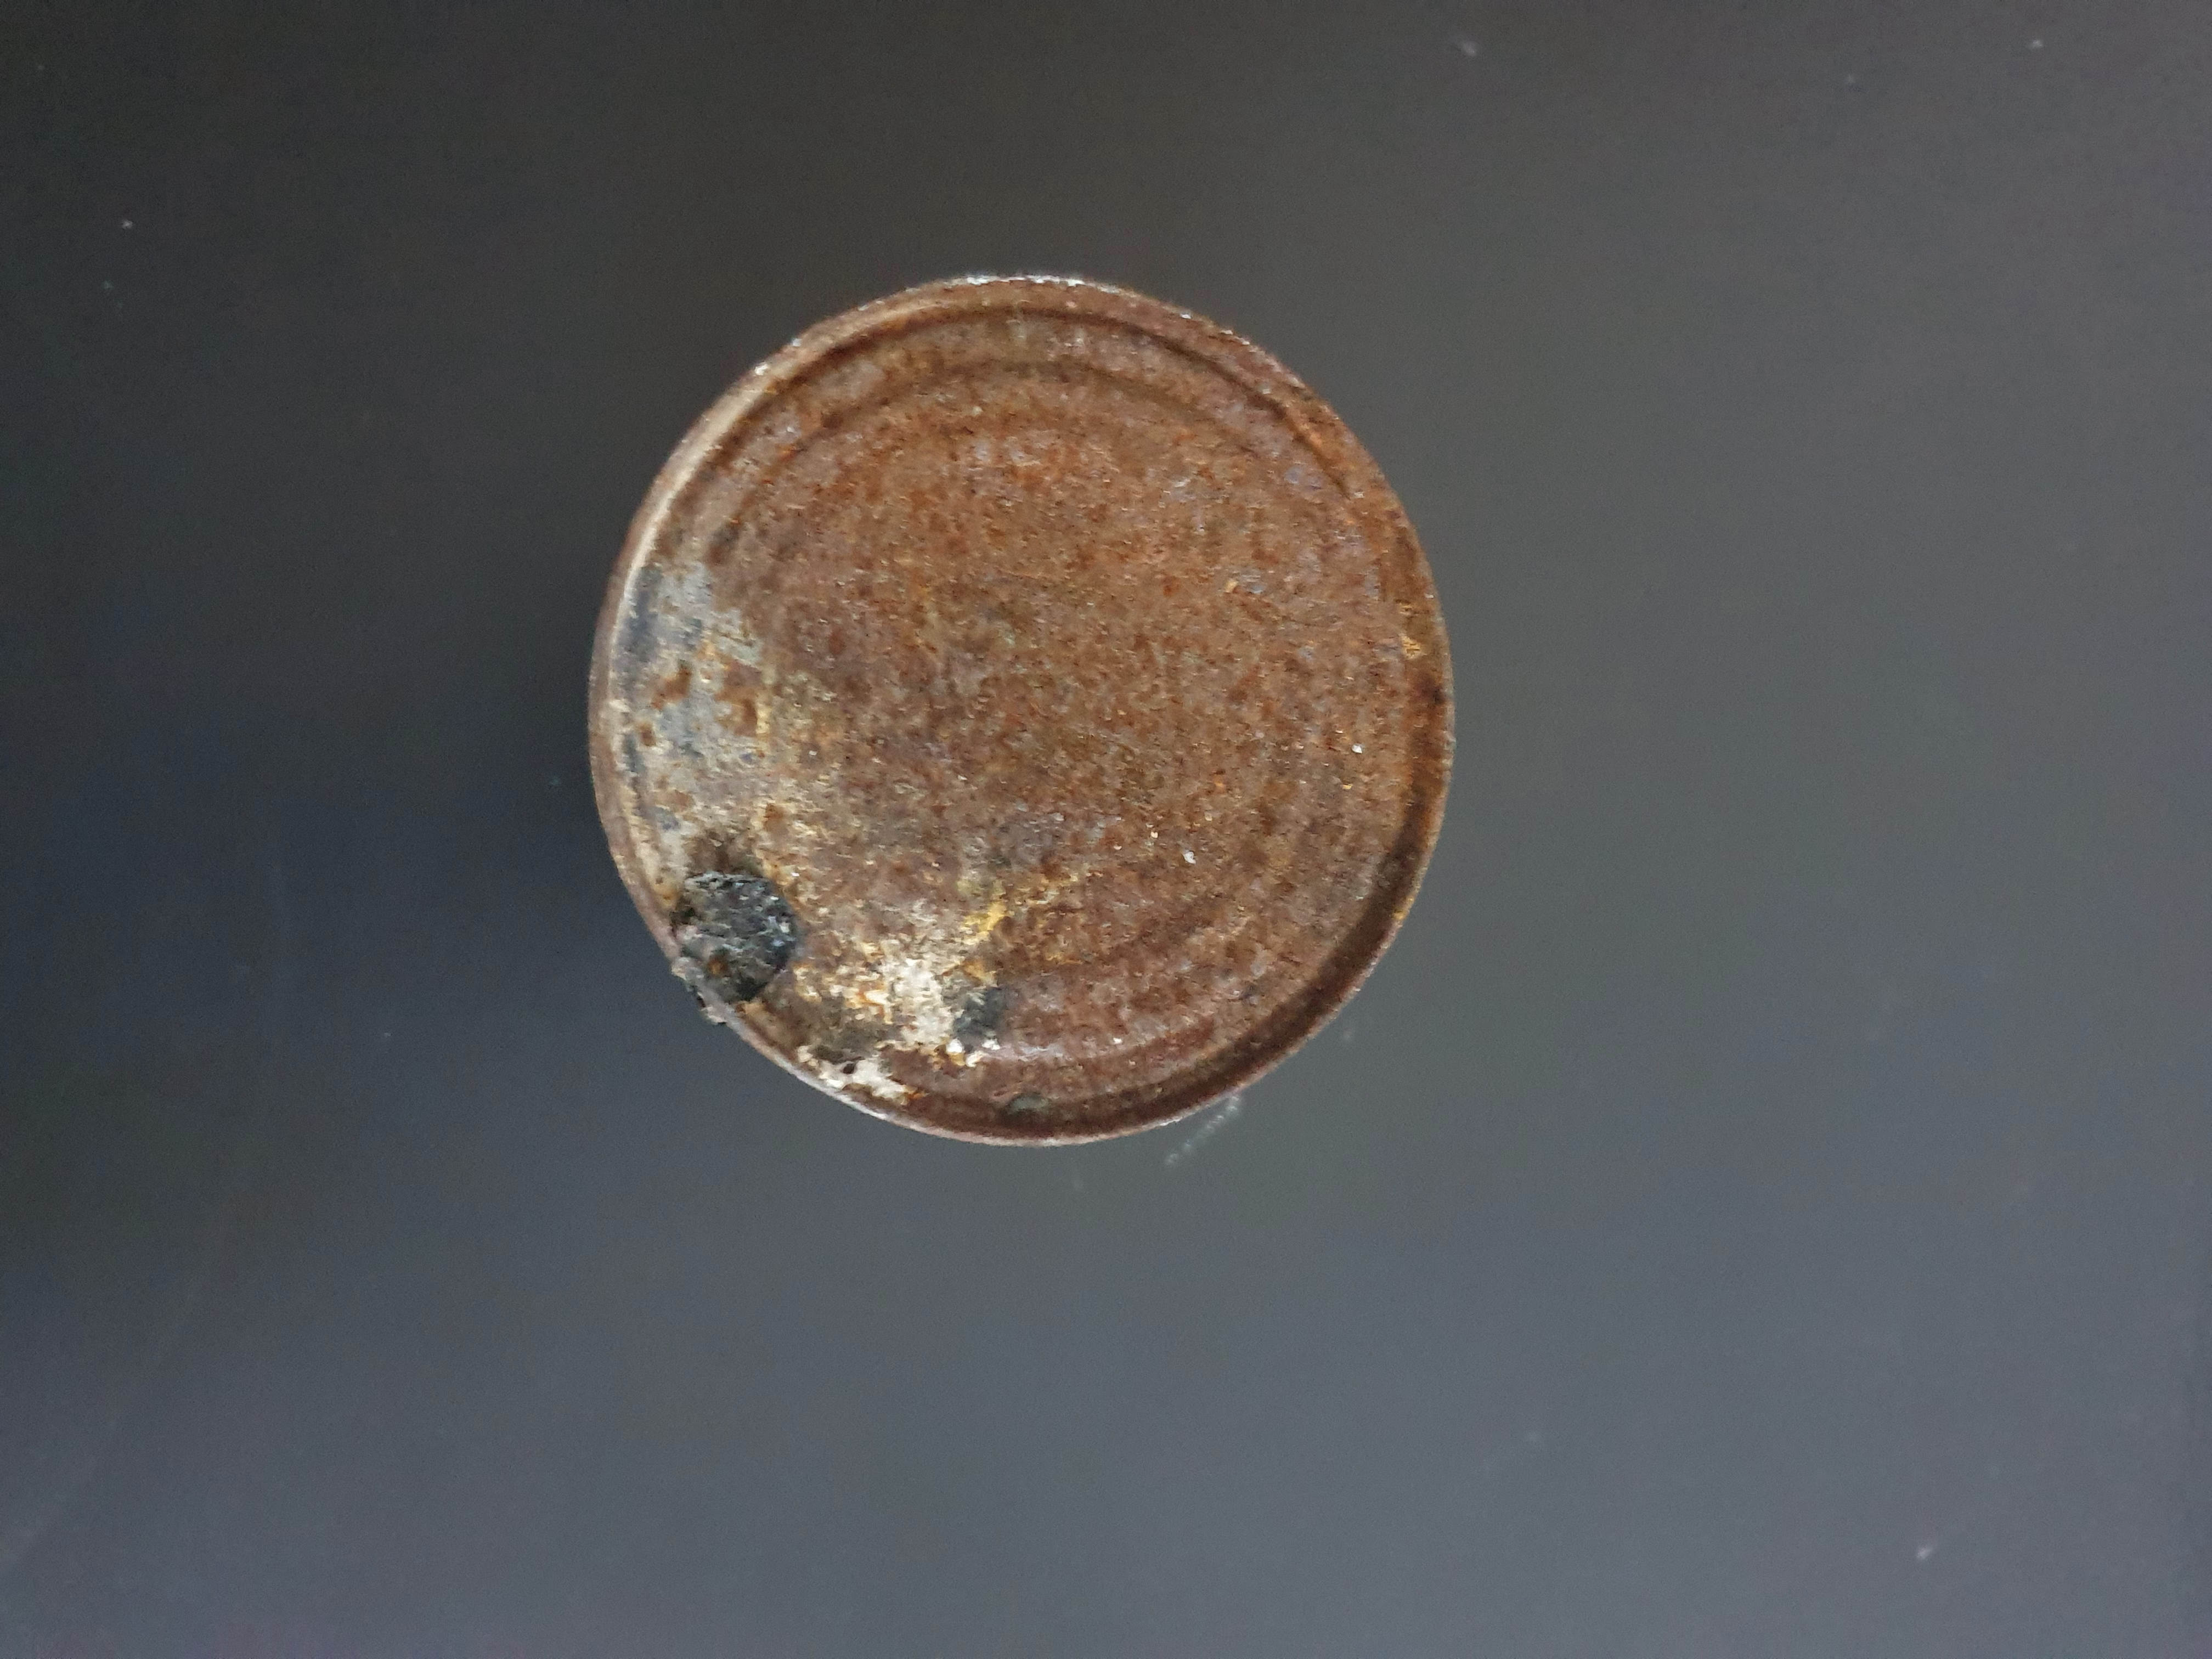metal: (542, 207, 1500, 1223)
